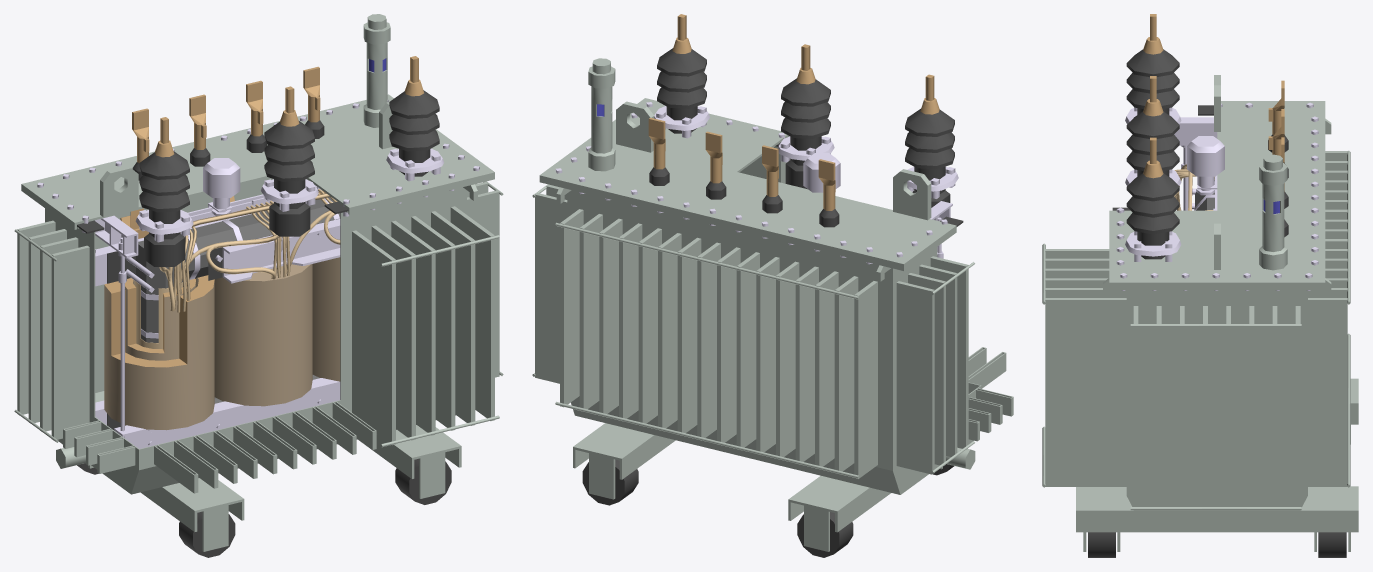
The model's file is transformer_blender.glb.
3 renders of one model, left to right at view 1: azimuth 30°, elevation 25°; view 2: azimuth 150°, elevation 25°; view 3: azimuth 270°, elevation 25°, orthographic. The views are drawn at different scales.
Visible parts, largest first — view 1: Transformer1; view 2: Transformer1; view 3: Transformer1.
Boxes of the visible parts, x1,y1,x2,y2 form: Transformer1: (14,14,503,557); Transformer1: (532,14,1013,557); Transformer1: (1042,14,1358,557).
Size of the model in its own units: 3.97 by 3.91 by 2.65.
